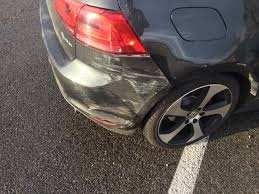Dent: (90, 55, 176, 138), (141, 35, 182, 82)
Scratch: (126, 78, 162, 95)
